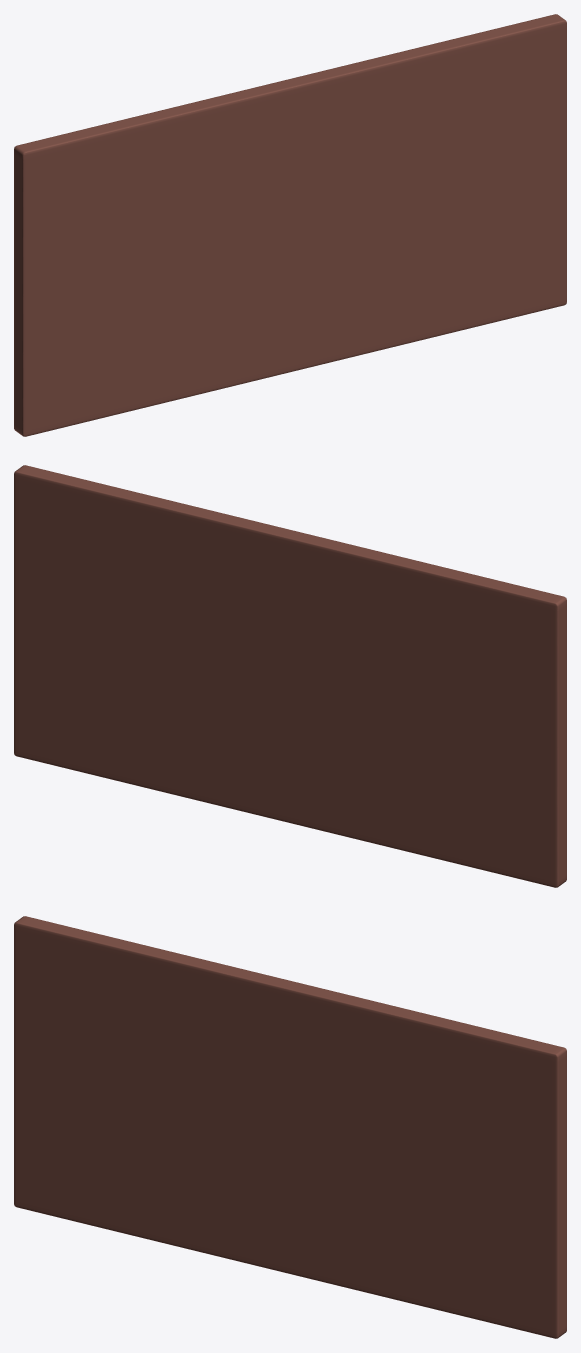
Rendered from ArtRoomWall.fbx.
The picture shows the model from 3 angles, top to bottom: view 1: azimuth 30°, elevation 25°; view 2: azimuth 150°, elevation 25°; view 3: azimuth 330°, elevation 25°; orthographic projection.
Parts seen in each view (by area): view 1: ArtRoomWall_High; view 2: ArtRoomWall_High; view 3: ArtRoomWall_High.
Part boxes in pixels (x1,y1,x2,y2): ArtRoomWall_High: [14, 14, 566, 436]; ArtRoomWall_High: [14, 465, 566, 887]; ArtRoomWall_High: [14, 916, 566, 1338].
Bounding box in the file's own units: 16 × 8 × 0.5.
